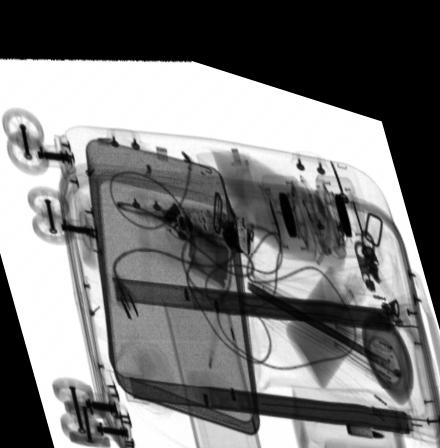Bullet: (344, 399, 384, 414)
